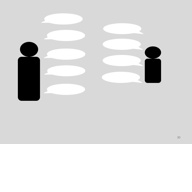left_speech: (40, 9, 86, 26), (42, 81, 88, 97), (41, 46, 87, 61), (42, 28, 87, 43), (42, 63, 87, 78)
right_speech: (101, 20, 144, 36), (101, 53, 143, 69), (100, 70, 143, 85), (101, 37, 143, 52)
